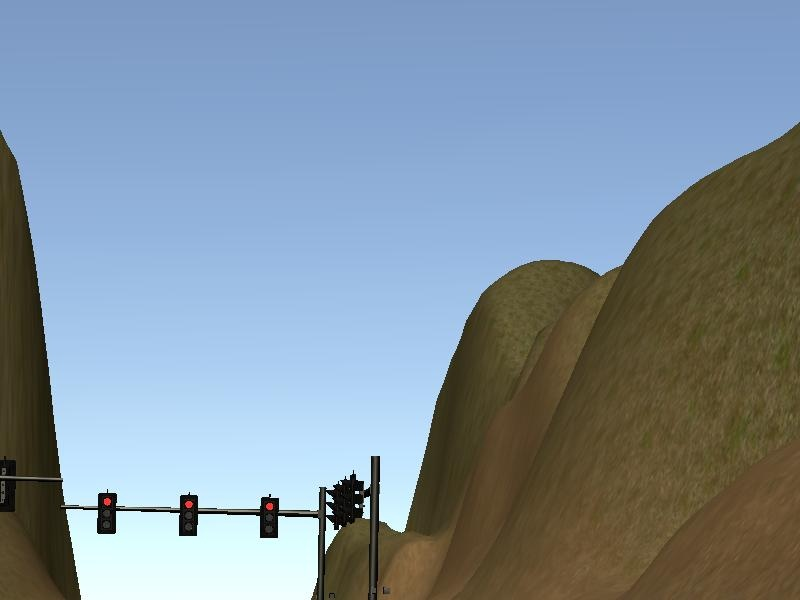red: (256, 494, 278, 541), (95, 488, 117, 533), (176, 494, 198, 539)
